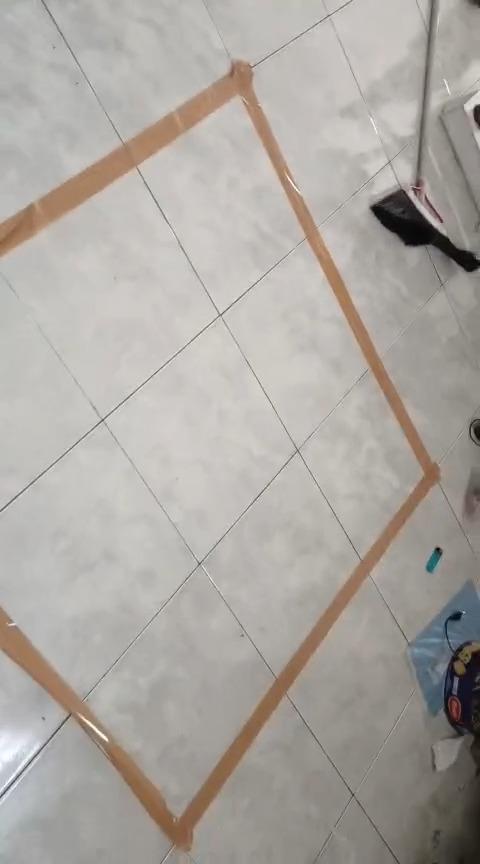floor marking: (0, 62, 438, 850)
